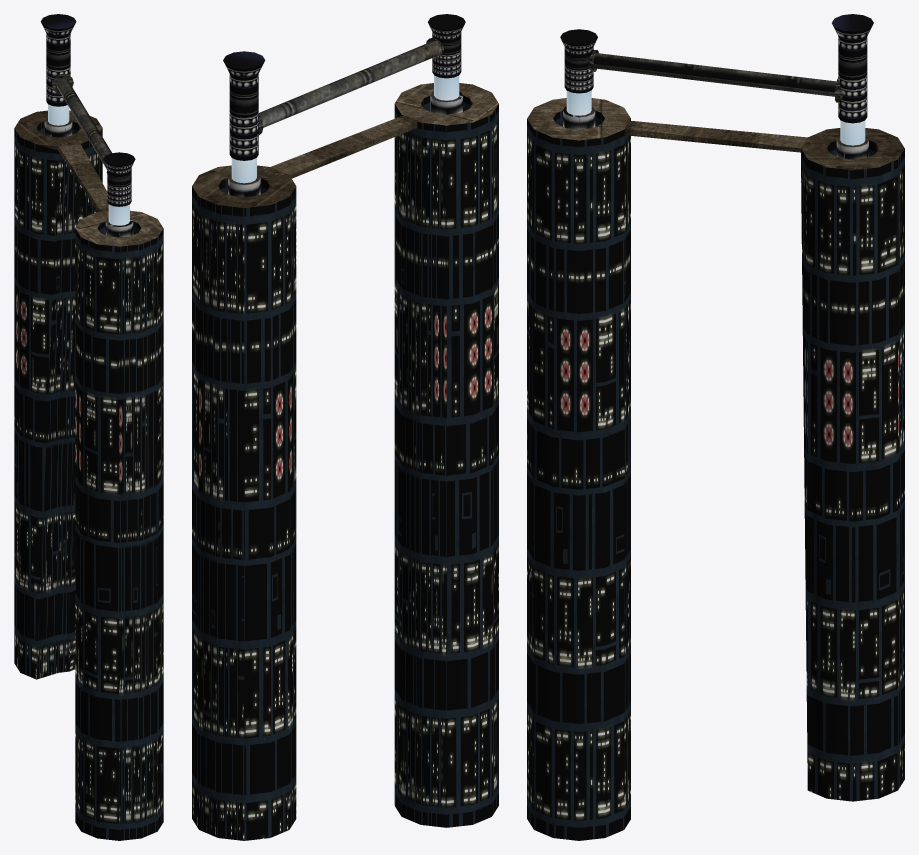
File: prop_tightrope.gltf
The picture shows the model from 3 angles, left to right: view 1: azimuth 30°, elevation 25°; view 2: azimuth 150°, elevation 25°; view 3: azimuth 270°, elevation 25°; orthographic projection. The views are drawn at different scales.
Parts seen in each view (by area): view 1: polymsh8, cube5; view 2: polymsh8, cube5; view 3: polymsh8, cube5.
Part boxes in pixels (x1=…): polymsh8: x1=14, y1=14, x2=163, y2=840; cube5: x1=52, y1=73, x2=111, y2=173; polymsh8: x1=192, y1=14, x2=498, y2=840; cube5: x1=258, y1=37, x2=443, y2=135; polymsh8: x1=527, y1=14, x2=904, y2=840; cube5: x1=588, y1=50, x2=842, y2=102.
Bounding box in the file's own units: 10.34 × 52.68 × 21.79.
Materials: 7 (7 with a texture image).
